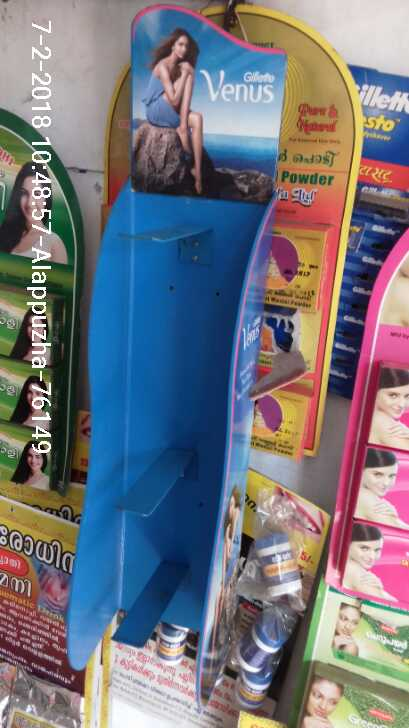reject: (132, 330, 271, 454)
